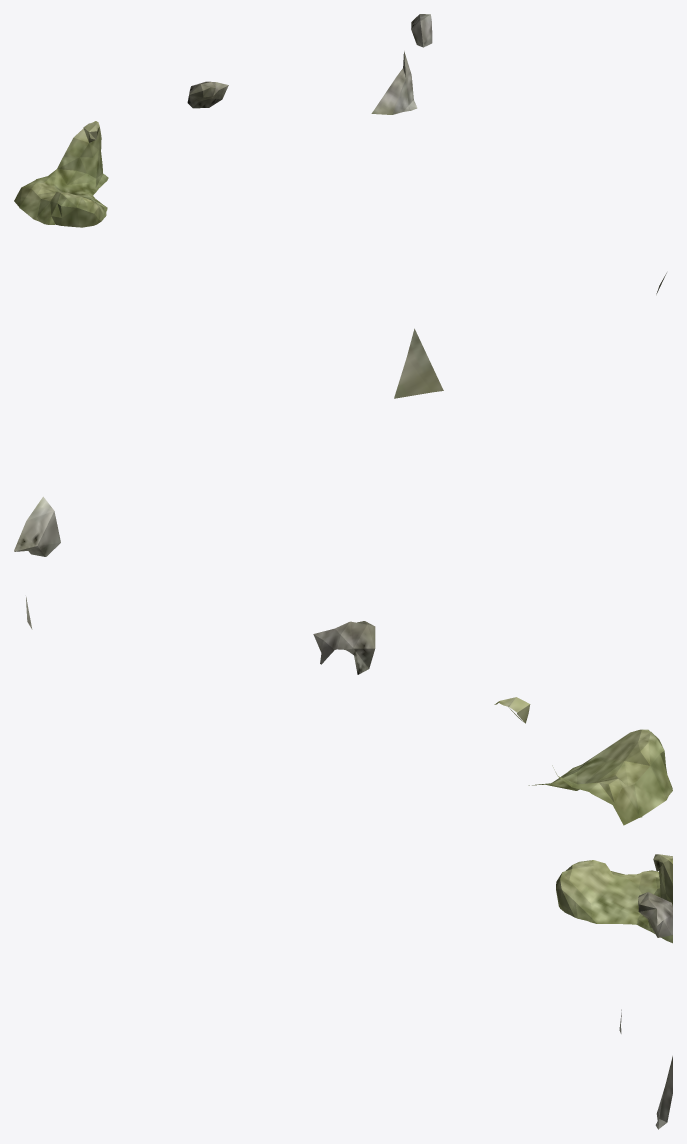
The picture shows the model from 3 angles, top to bottom: view 1: azimuth 30°, elevation 25°; view 2: azimuth 150°, elevation 25°; view 3: azimuth 270°, elevation 25°; orthographic projection. The views are drawn at different scales.
Size of the model in its own units: 5.24 by 1.29 by 5.9.
1 material, 1 textured.
